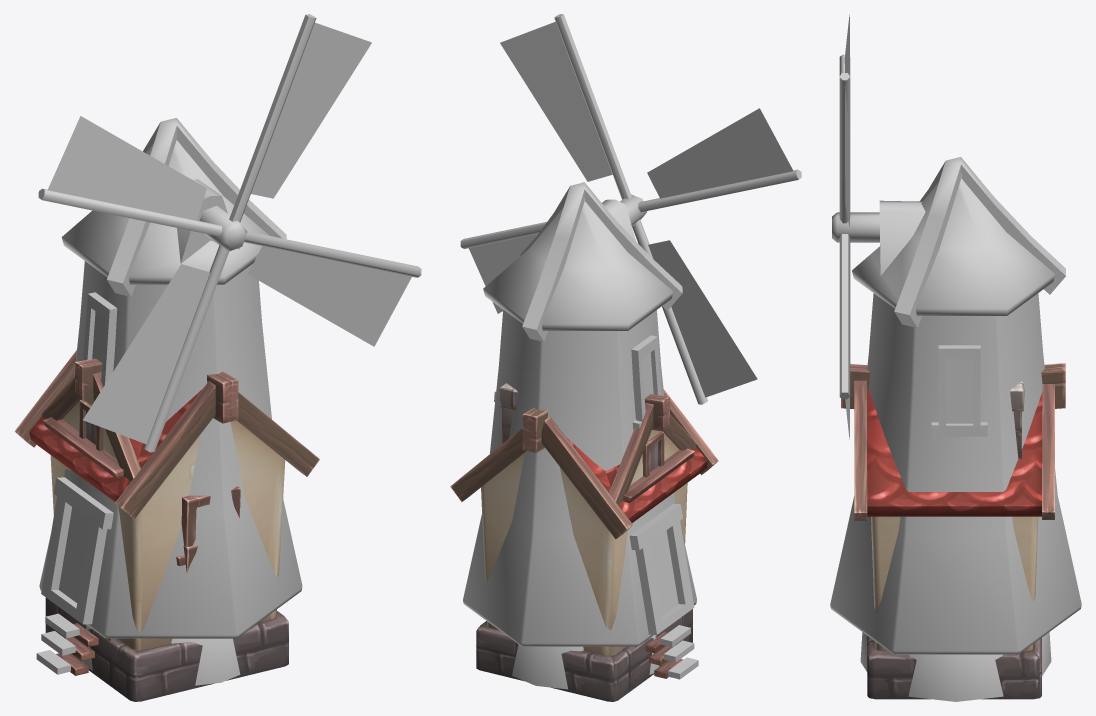
File: Cube_Buildings.fbx
3 renders of one model, left to right at view 1: azimuth 30°, elevation 25°; view 2: azimuth 150°, elevation 25°; view 3: azimuth 270°, elevation 25°, orthographic. The views are drawn at different scales.
Parts seen in each view (by area): view 1: Windmill_Body, Windmill_Rotor, House_02, House_01; view 2: Windmill_Body, House_02, Windmill_Rotor; view 3: Windmill_Body, House_02, Windmill_Rotor.
Boxes of the visible parts, x1,y1,x2,y2 form: Windmill_Body: [36, 118, 302, 685]; Windmill_Rotor: [38, 14, 421, 452]; House_02: [14, 350, 319, 701]; House_01: [176, 486, 240, 566]; Windmill_Body: [463, 182, 698, 689]; House_02: [450, 383, 718, 701]; Windmill_Rotor: [460, 14, 801, 404]; Windmill_Body: [830, 157, 1081, 701]; House_02: [841, 363, 1065, 699]; Windmill_Rotor: [839, 14, 850, 439].
Size of the model in its own units: 2.09 by 3.46 by 1.25.
